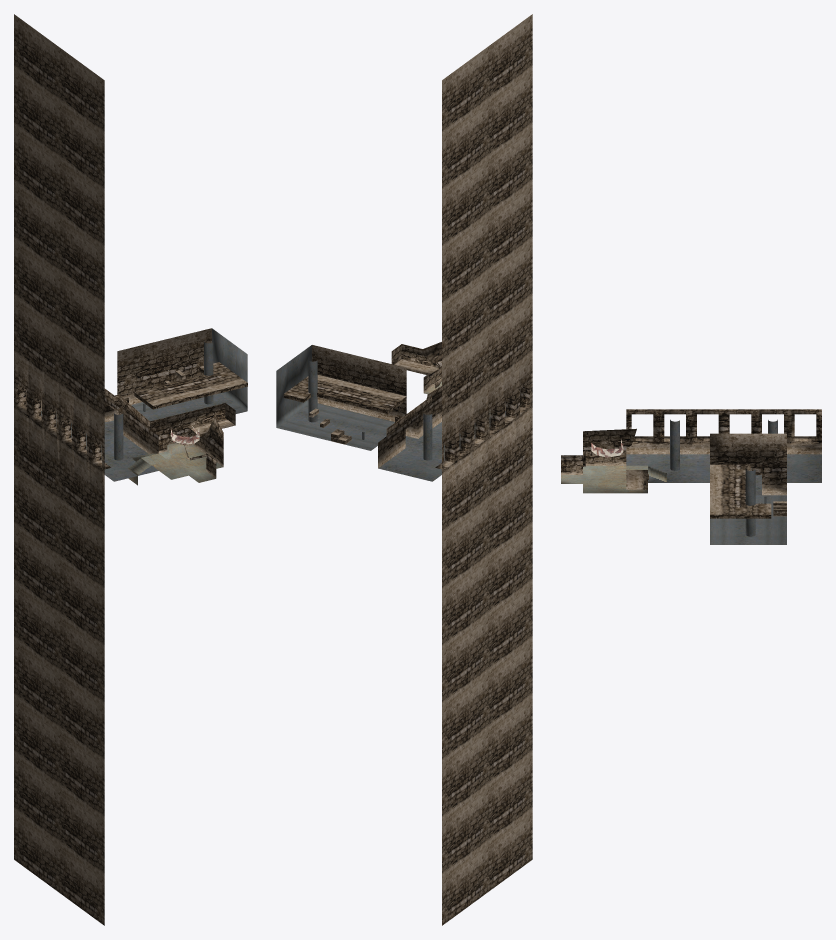
Rendered from level4.gltf.
3 renders of one model, left to right at view 1: azimuth 30°, elevation 25°; view 2: azimuth 150°, elevation 25°; view 3: azimuth 270°, elevation 25°, orthographic. The views are drawn at different scales.
Visible parts, largest first — view 1: level.003-col, level.005-col, level-col, level.009-col, level.001-col; view 2: level.003-col, level.005-col, level.009-col, level-col, level.004-col.001; view 3: level.003-col, level.005-col, level-col, level.009-col, level.004-col.001.
Part boxes in pixels (x1,y1,x2,y2): level.003-col: [14, 14, 158, 925]; level.005-col: [117, 328, 247, 421]; level-col: [150, 403, 235, 482]; level.009-col: [134, 362, 247, 409]; level.001-col: [127, 453, 168, 485]; level.003-col: [378, 14, 532, 925]; level.005-col: [276, 345, 406, 450]; level.009-col: [283, 375, 406, 413]; level-col: [391, 342, 441, 394]; level.004-col.001: [308, 360, 317, 422]; level.003-col: [626, 409, 821, 495]; level.005-col: [710, 433, 786, 544]; level-col: [561, 428, 647, 493]; level.009-col: [710, 464, 771, 518]; level.004-col.001: [745, 469, 755, 536].
Size of the model in its own units: 50.1 by 222 by 57.6.
4 materials, 4 textured.
